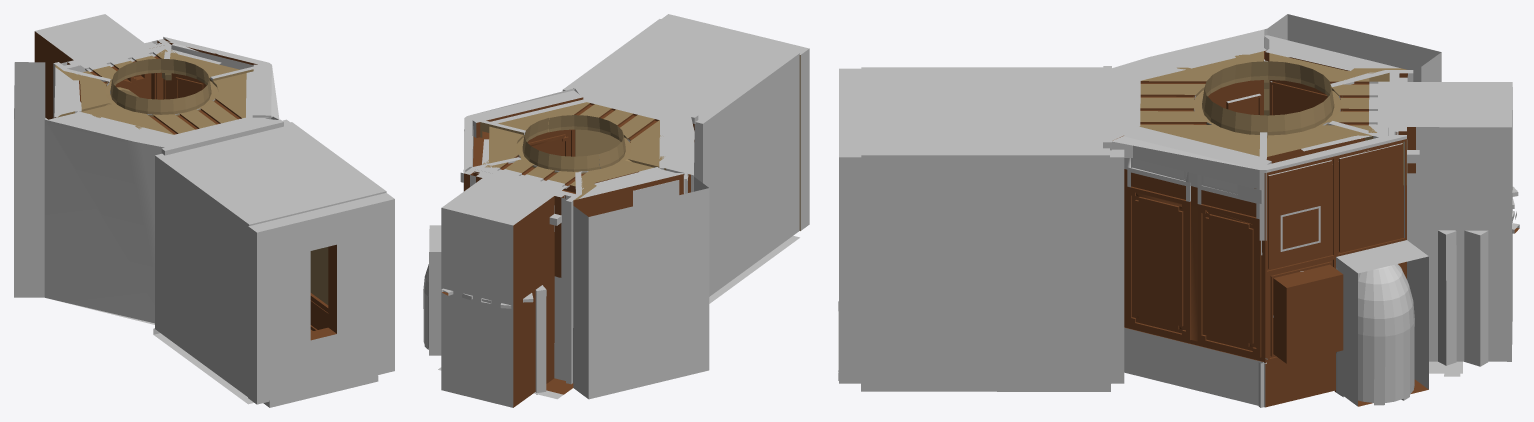
File: SmokingRoom3.obj
3 renders of one model, left to right at view 1: azimuth 30°, elevation 25°; view 2: azimuth 150°, elevation 25°; view 3: azimuth 270°, elevation 25°, orthographic. The views are drawn at different scales.
Size of the model in its own units: 8.85 by 6.46 by 15.28.
